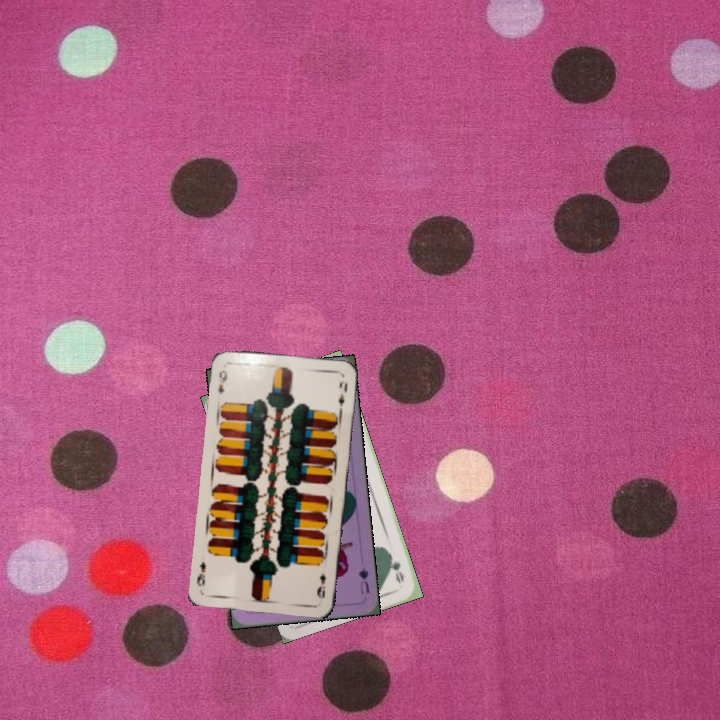E9: (313, 570, 328, 602), (214, 366, 230, 396)
GO: (384, 548, 407, 586)
GU: (355, 564, 372, 597)
